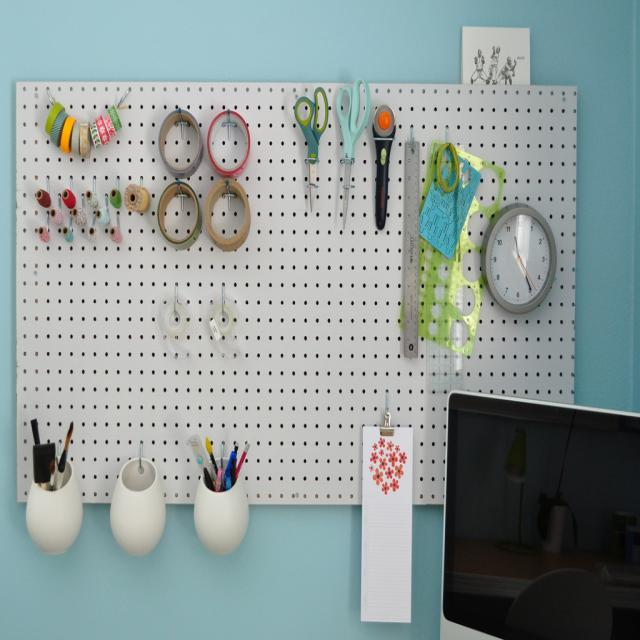scissors: (336, 78, 370, 234), (293, 86, 331, 214)
